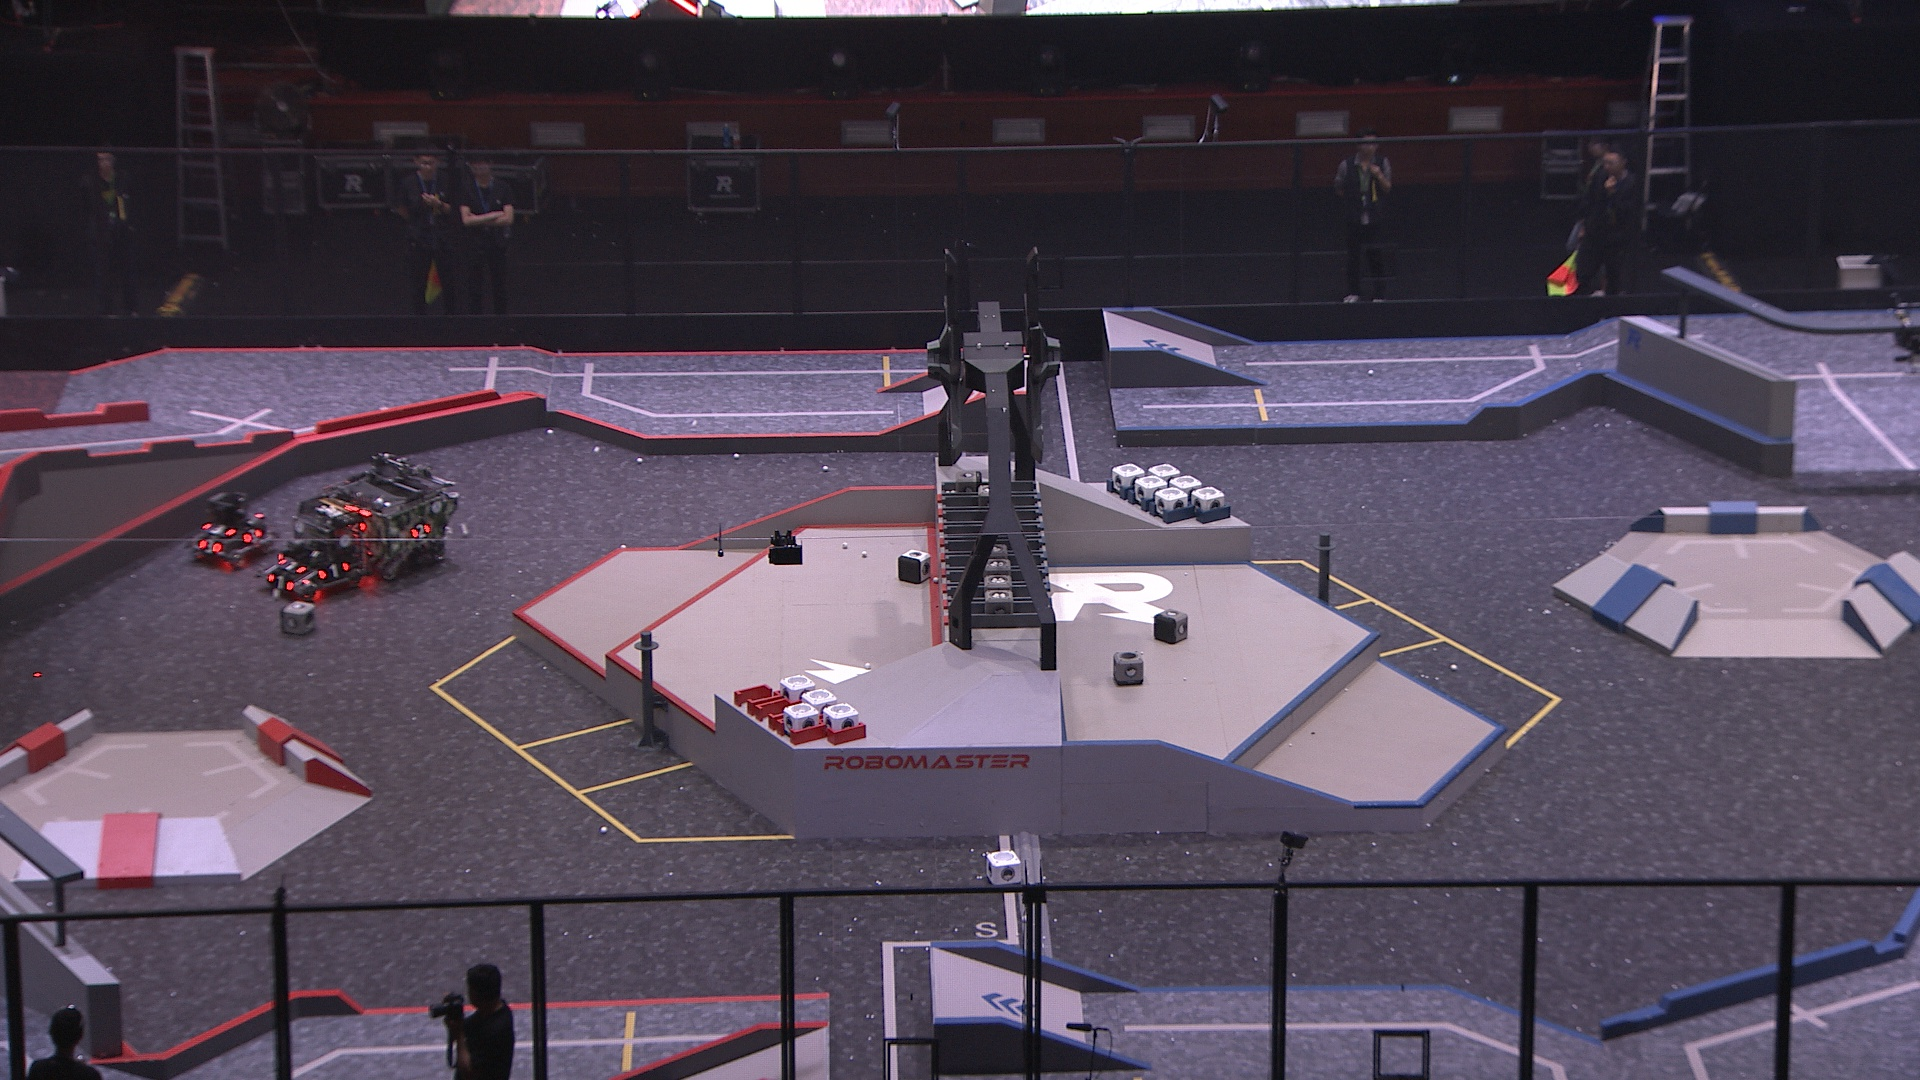armor: (313, 556, 352, 583), (264, 568, 294, 593), (276, 555, 309, 575), (200, 518, 233, 537), (196, 534, 223, 555), (409, 522, 434, 541), (345, 514, 368, 534), (240, 526, 264, 543)
car: (319, 448, 462, 584), (252, 491, 368, 603), (189, 489, 272, 564)
watcher: (1887, 291, 1920, 373)
